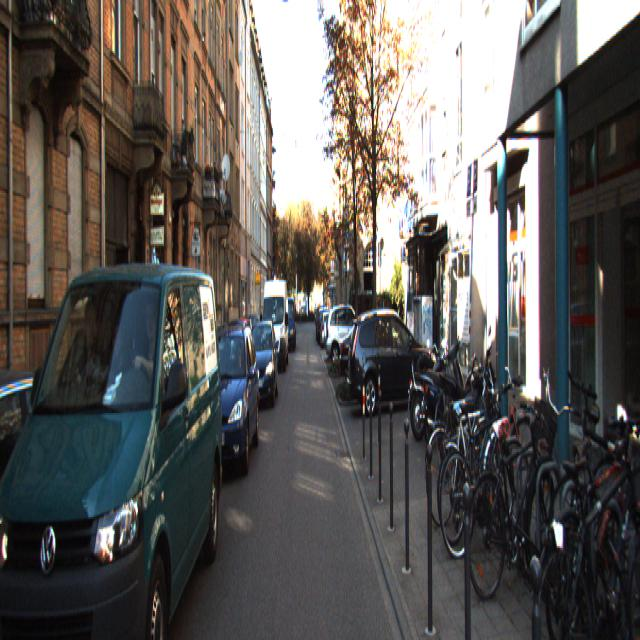Car: (0, 220, 226, 638), (0, 353, 83, 639), (191, 316, 260, 490), (434, 334, 511, 480), (346, 304, 436, 420), (339, 306, 412, 390), (420, 332, 469, 453), (244, 317, 278, 412), (326, 300, 374, 366), (260, 276, 290, 376), (279, 294, 298, 352)
